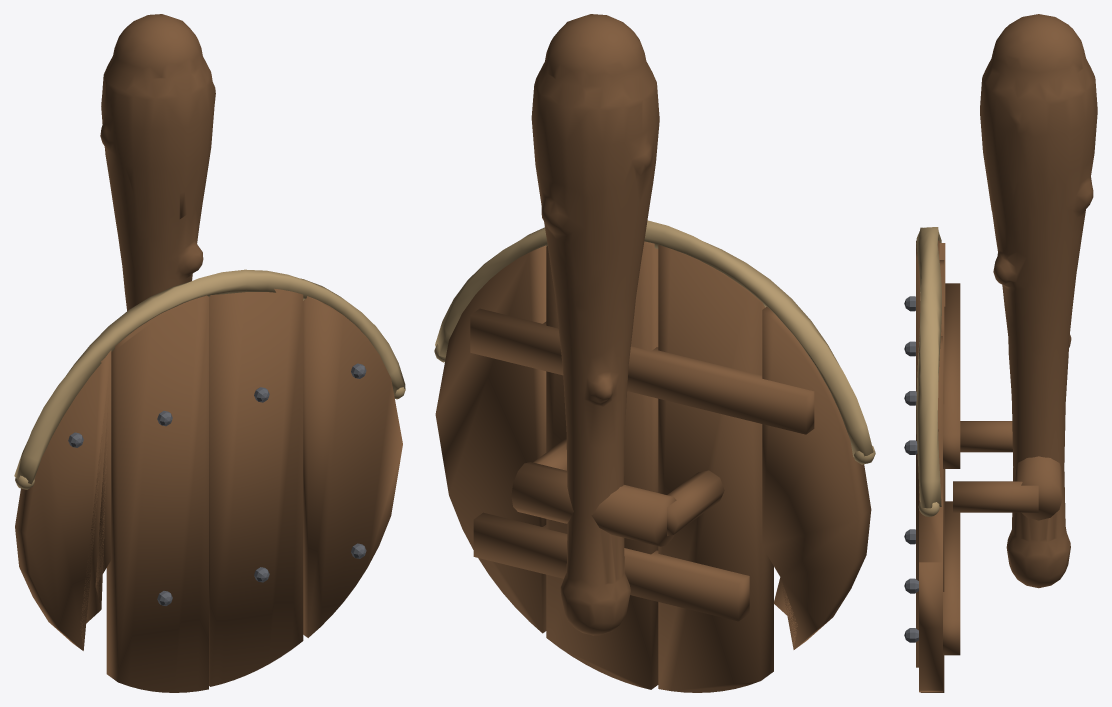
Rendered from Armes_Tank_P1.fbx.
The picture shows the model from 3 angles, left to right: view 1: azimuth 30°, elevation 25°; view 2: azimuth 150°, elevation 25°; view 3: azimuth 270°, elevation 25°; orthographic projection. The views are drawn at different scales.
Parts seen in each view (by area): view 1: Bouclier_Bois, Gourdin_Bois, Bouclier_Corde, Bouclier_Fer; view 2: Bouclier_Bois, Gourdin_Bois, Bouclier_Corde; view 3: Gourdin_Bois, Bouclier_Bois, Bouclier_Corde, Bouclier_Fer.
Boxes of the visible parts, x1,y1,x2,y2 form: Bouclier_Bois: (15, 288, 402, 692); Gourdin_Bois: (100, 14, 215, 310); Bouclier_Corde: (14, 269, 405, 489); Bouclier_Fer: (68, 363, 366, 605); Bouclier_Bois: (435, 241, 871, 692); Gourdin_Bois: (531, 14, 659, 635); Bouclier_Corde: (434, 220, 875, 464); Gourdin_Bois: (980, 14, 1097, 588); Bouclier_Bois: (916, 240, 1062, 692); Bouclier_Corde: (916, 227, 941, 516); Bouclier_Fer: (904, 296, 918, 642).
Bounding box in the file's own units: 1.97 × 3.03 × 0.8126.
